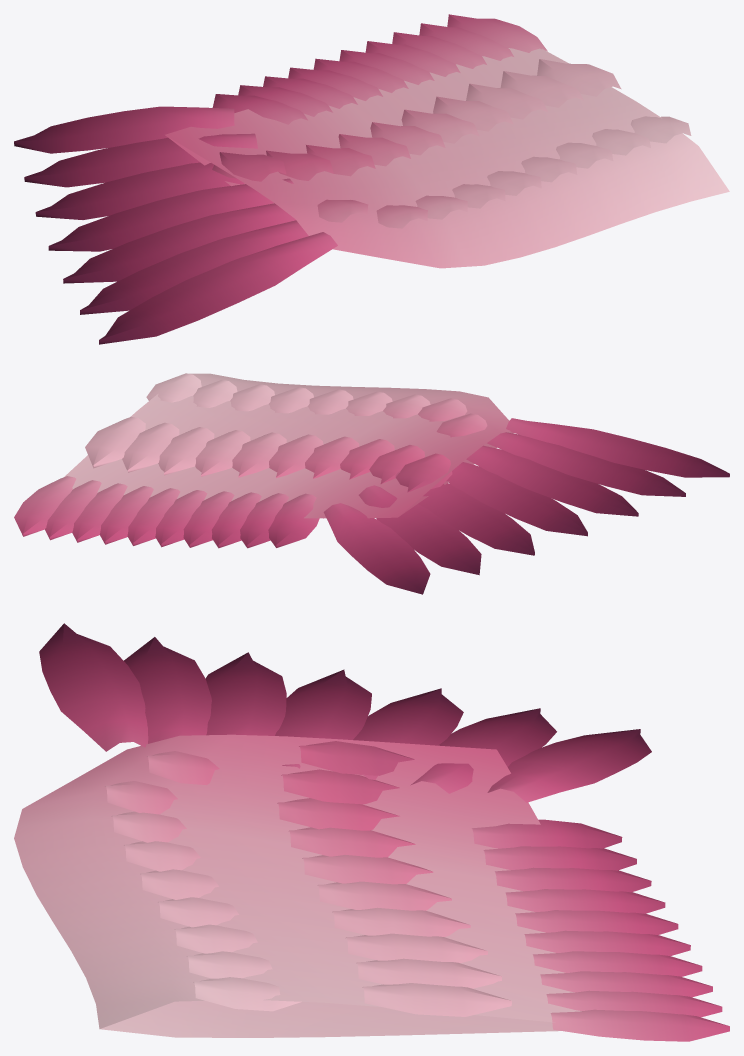
Rendered from sky_hawk2_wing_l.glb.
3 views of the same model, one above another, from view 1: azimuth 30°, elevation 25°; view 2: azimuth 150°, elevation 25°; view 3: azimuth 270°, elevation 25° (orthographic). The views are drawn at different scales.
Visible parts, largest first — view 1: hawk2_wing_l; view 2: hawk2_wing_l; view 3: hawk2_wing_l.
Boxes of the visible parts, <box> form: hawk2_wing_l: <box>14,14,729,344</box>; hawk2_wing_l: <box>14,373,729,594</box>; hawk2_wing_l: <box>14,623,729,1041</box>.
Size of the model in its own units: 3.37 by 0.3034 by 2.61.
1 material, 1 textured.
